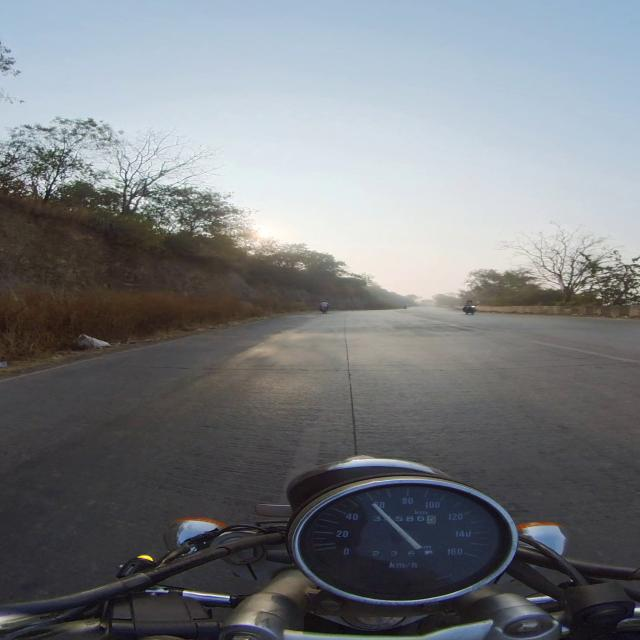motorcycle: (0, 457, 639, 639), (463, 305, 476, 314)
